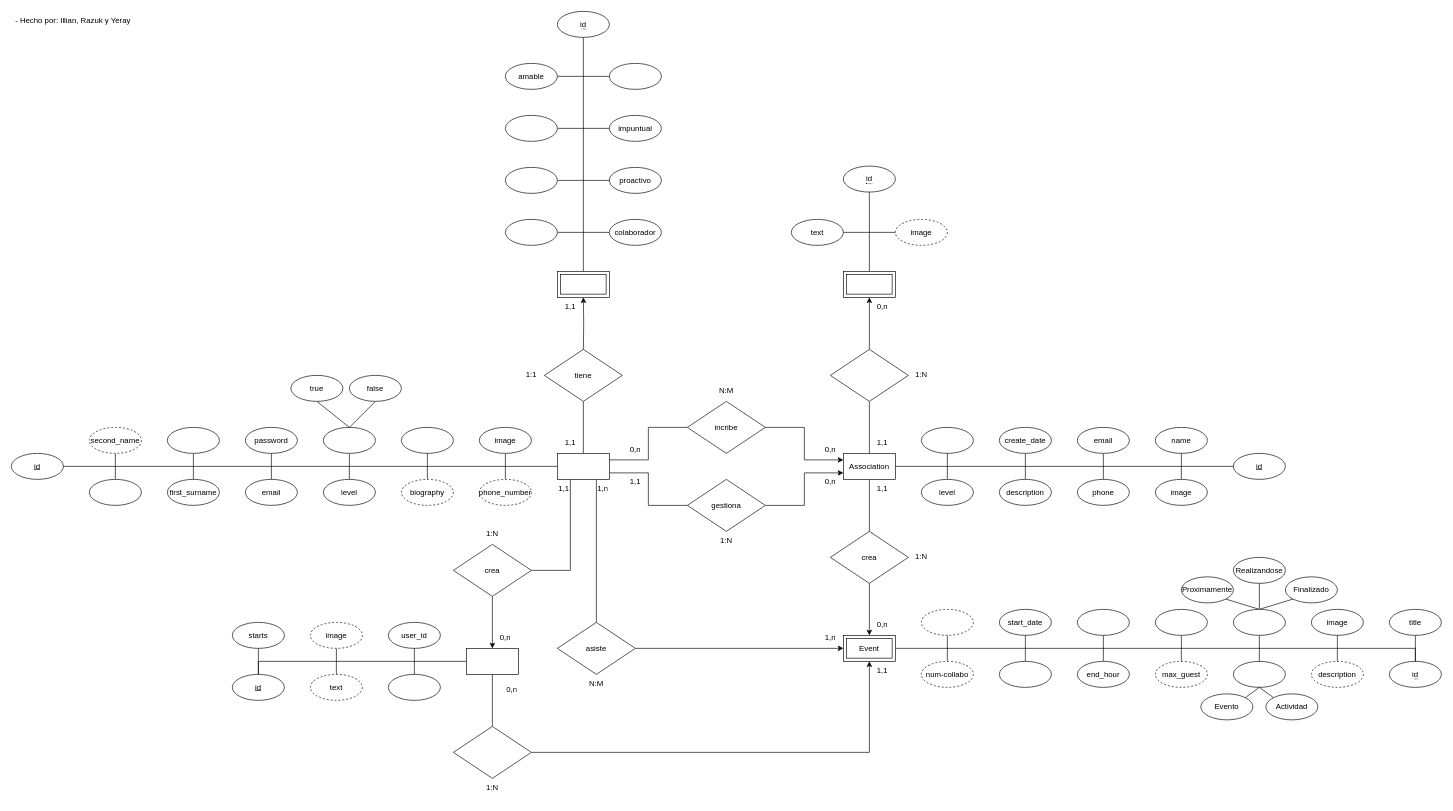
This 1453x811 diagram has some shape labels left out. The shapes that lost their labels are listed below. From the top down, each one's centre as x and y in pixels, then its label:
At point (635, 76): "problematico".
At point (531, 128): "puntual".
At point (531, 180): "serio".
At point (531, 232): "tranquilo".
At point (583, 284): "Attribute".
At point (869, 284): "Post".
At point (869, 375): "publica".
At point (193, 440): "second_surname".
At point (349, 440): "admin".
At point (427, 440): "birth_date".
At point (947, 440): "id_responsible".
At point (583, 466): "User".
At point (115, 492): "first_name".
At point (947, 622): "max-collabo".
At point (1103, 622): "start_hour".
At point (1181, 622): "num_guest".
At point (1259, 622): "state".
At point (492, 661): "Comment".
At point (1025, 674): "end_date".
At point (1259, 674): "type".
At point (414, 687): "event_id".
At point (492, 752): "pertenece".
